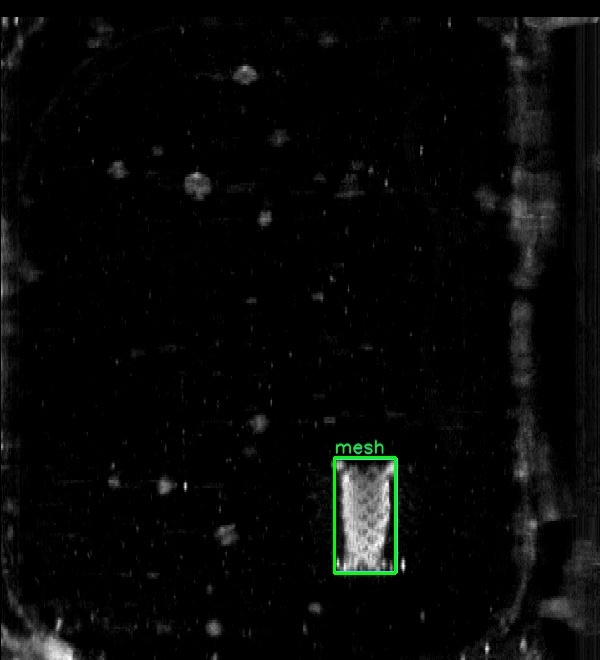mesh: (334, 458, 396, 572)
